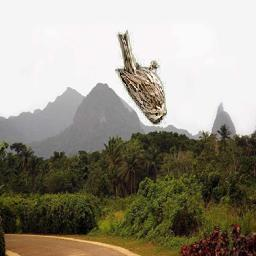Sparrow: (115, 29, 167, 125)
